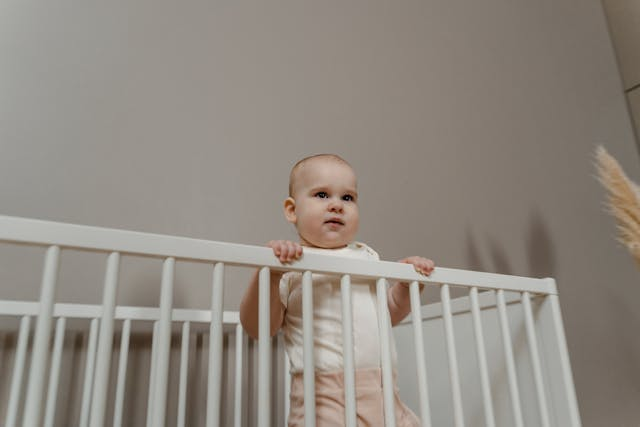baby: (267, 154, 378, 262)
crib: (0, 216, 579, 426)
